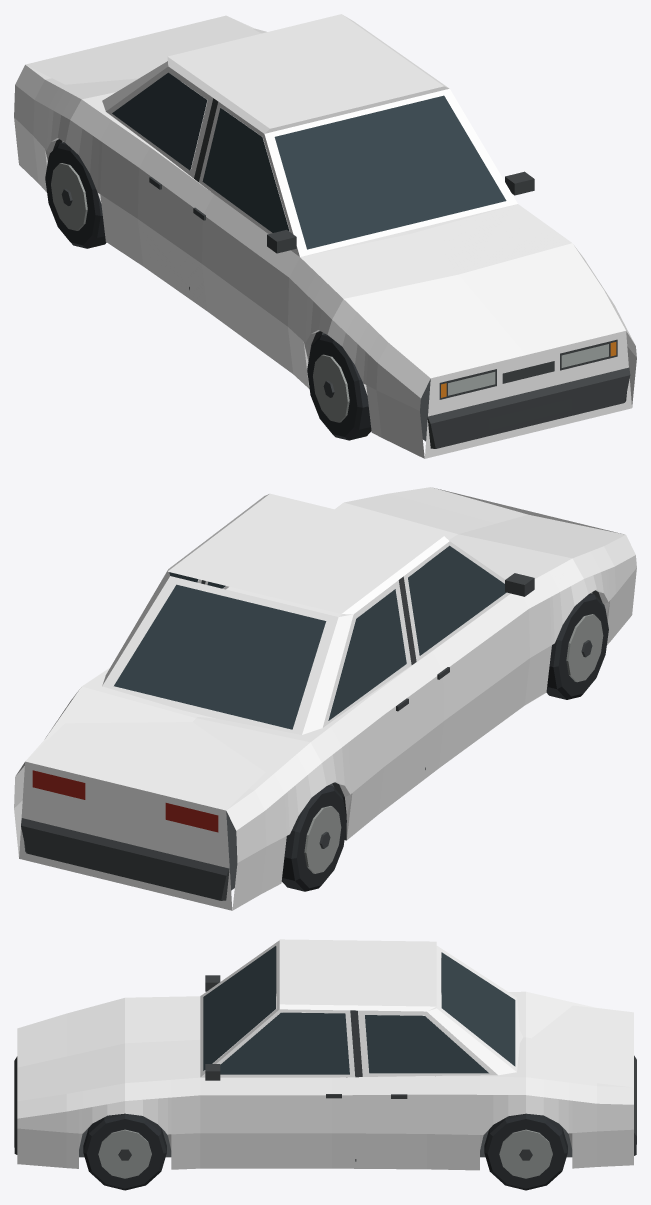
File: ostwerk_kranich.glb
3 views of the same model, one above another, from view 1: azimuth 30°, elevation 25°; view 2: azimuth 150°, elevation 25°; view 3: azimuth 270°, elevation 25° (orthographic). The views are drawn at different scales.
Visible parts, largest first — view 1: ostwerk_kranich; view 2: ostwerk_kranich; view 3: ostwerk_kranich.
Part boxes in pixels (x1,y1,x2,y2): ostwerk_kranich: (14,14,636,458); ostwerk_kranich: (14,487,636,910); ostwerk_kranich: (14,939,636,1190).
Size of the model in its own units: 1.84 by 1.52 by 4.97.
Materials: 8 (1 with a texture image).
